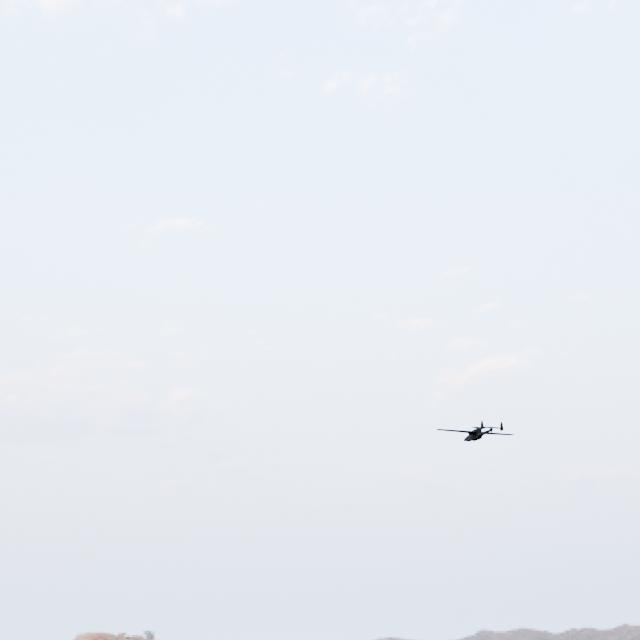Airaplan: (436, 420, 515, 442)
